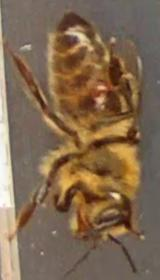varroa_mite: (86, 80, 112, 112)
